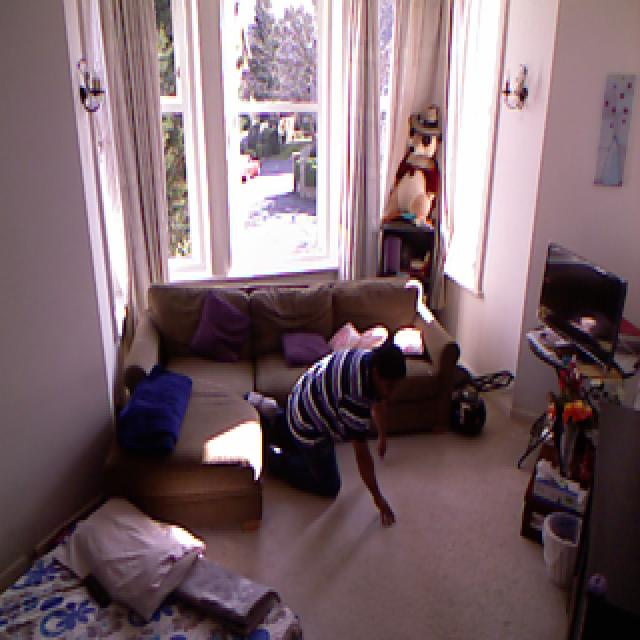crawling: (236, 340, 412, 532)
